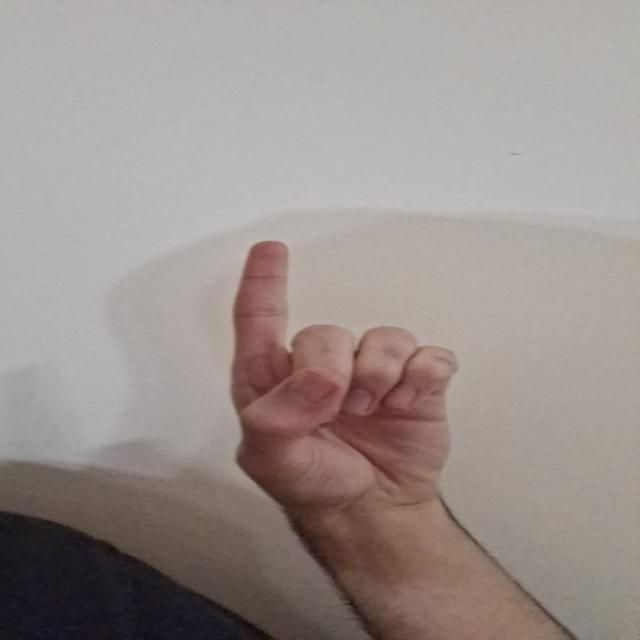D2: (210, 237, 474, 520)
